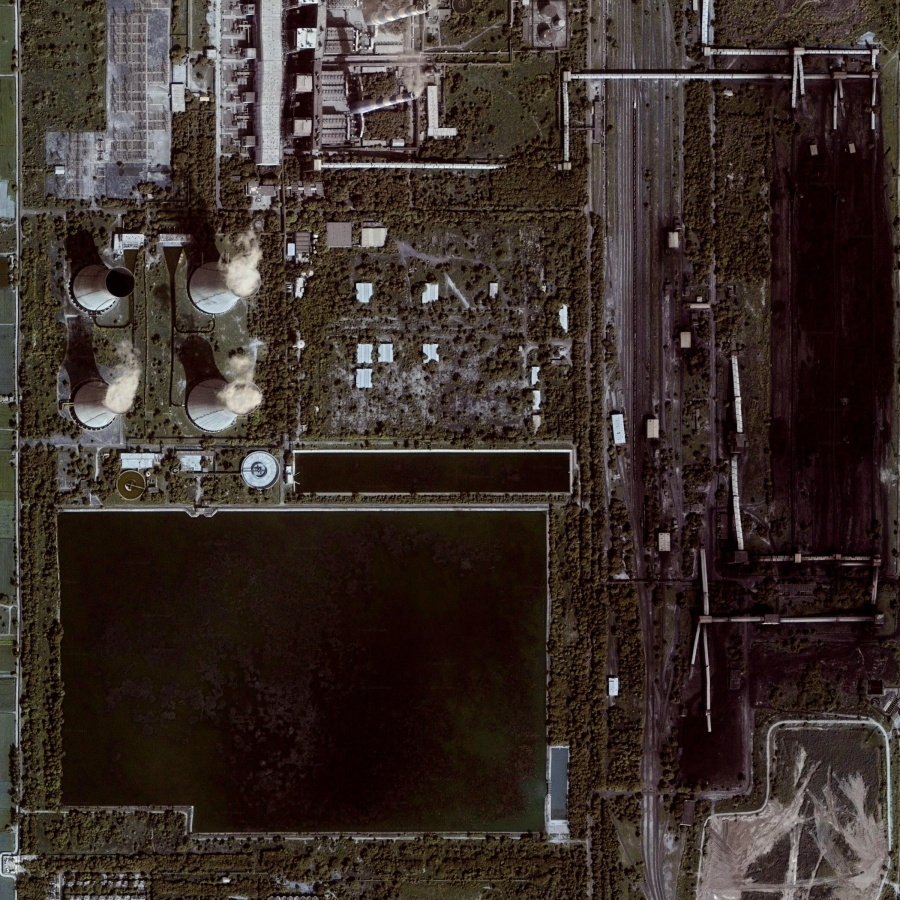PowerPlant: (33, 489, 586, 861)
